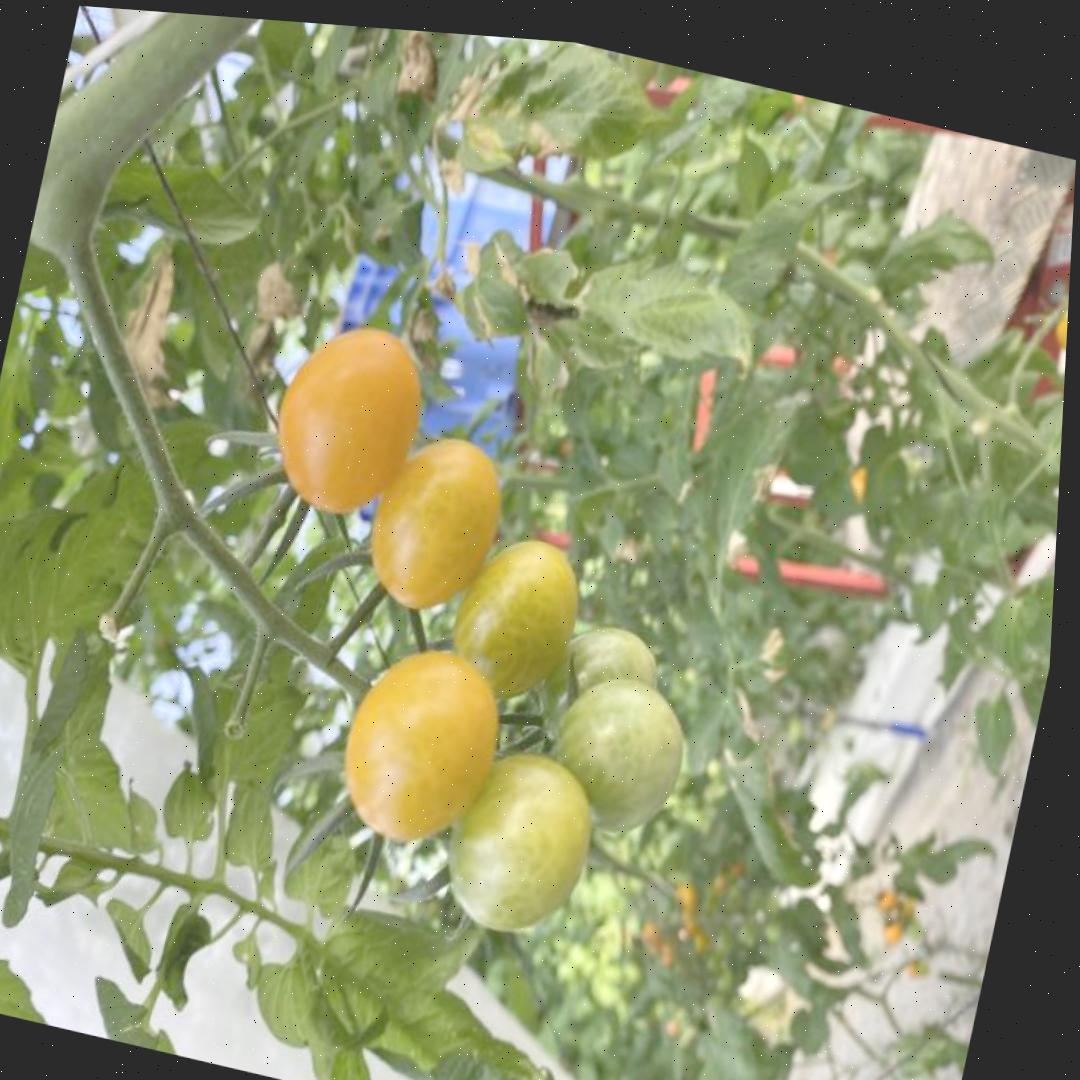mentah: (427, 730, 608, 950), (536, 660, 695, 847)
setengah_matang: (326, 628, 514, 862), (259, 306, 437, 532), (354, 415, 515, 624), (439, 520, 591, 713)
